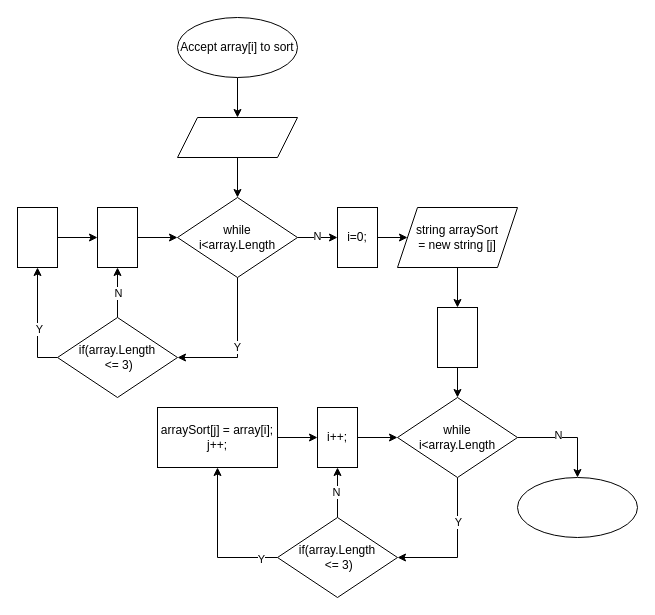
This 655x615 diagram has some shape labels left out. The shapes that lost their labels are listed below. From the top down, each one's box as (x1, y1, x2, y2) in pixels, then its label:
(176, 116, 298, 158): int i = 0; int j = 0;
(16, 206, 58, 268): j++
(96, 206, 138, 268): i++
(436, 306, 478, 368): j=0;
(516, 476, 638, 538): Show arraySort[j]
